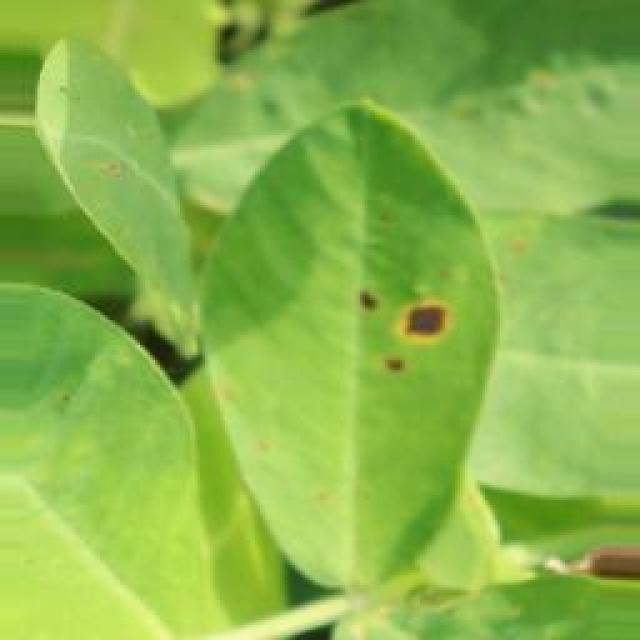Sigatoka: (344, 271, 456, 399)
